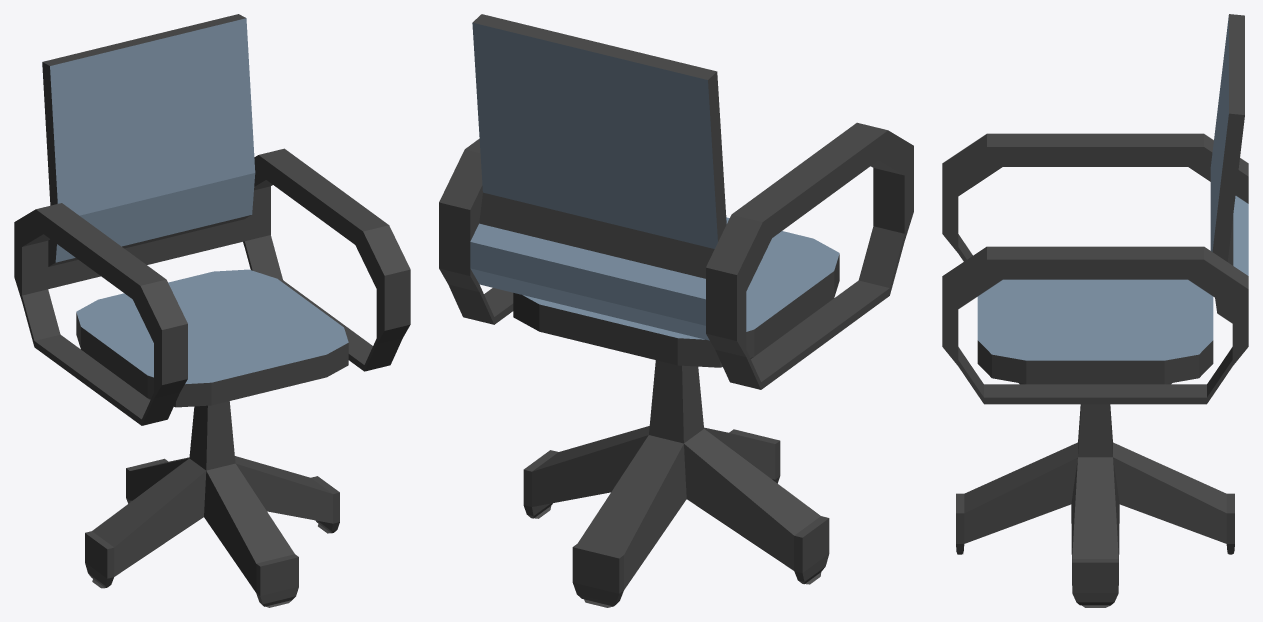
The model's file is silla 1.fbx.
The picture shows the model from 3 angles, left to right: view 1: azimuth 30°, elevation 25°; view 2: azimuth 150°, elevation 25°; view 3: azimuth 270°, elevation 25°; orthographic projection. The views are drawn at different scales.
Visible parts, largest first — view 1: Cube; view 2: Cube; view 3: Cube.
Boxes of the visible parts, box(x1,y1,x2,y2) form: Cube: box(14, 14, 410, 607); Cube: box(439, 14, 913, 607); Cube: box(942, 14, 1248, 607).
Size of the model in its own units: 253 by 455 by 260.
